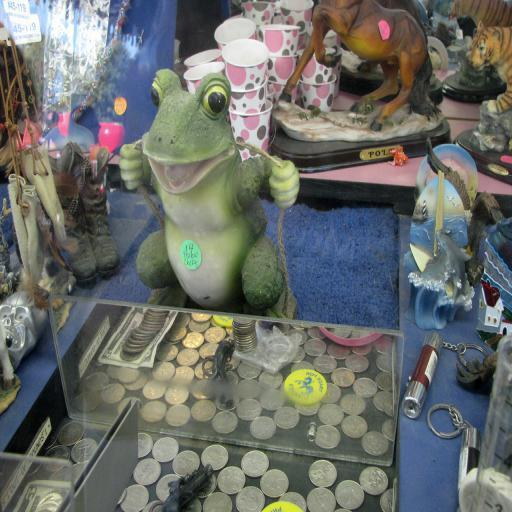horse: (277, 0, 443, 133)
